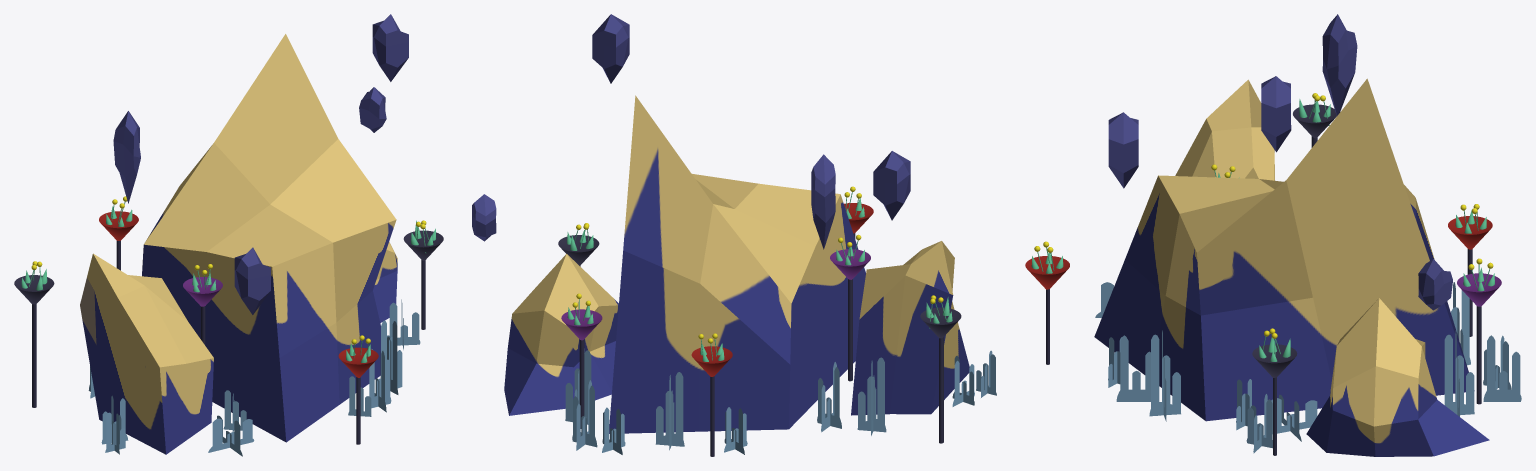
Rendered from rock_diamond_2.glb.
The picture shows the model from 3 angles, left to right: view 1: azimuth 30°, elevation 25°; view 2: azimuth 150°, elevation 25°; view 3: azimuth 270°, elevation 25°; orthographic projection. The views are drawn at different scales.
Parts seen in each view (by area): view 1: Cube.006; view 2: Cube.006; view 3: Cube.006.
Part boxes in pixels (x1,y1,x2,y2): Cube.006: (14,14,443,456); Cube.006: (472,14,996,456); Cube.006: (1025,14,1521,456).
Size of the model in its own units: 9.15 by 6.8 by 8.33.
Materials: 9 (1 with a texture image).
